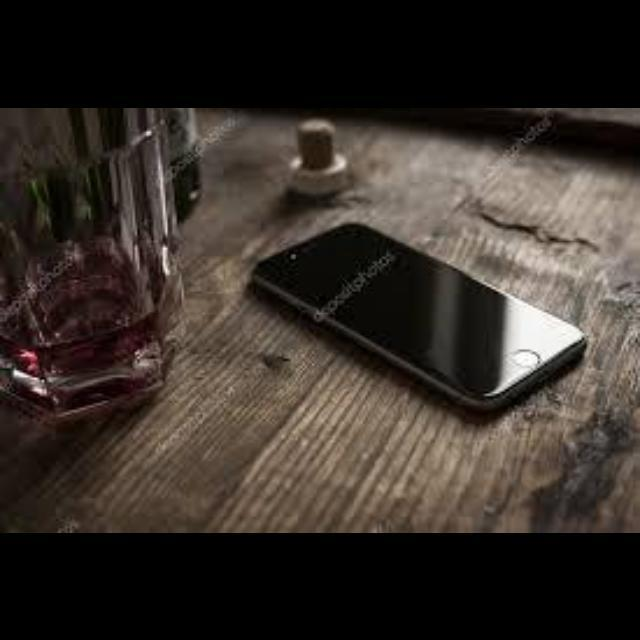phone: (235, 193, 617, 432)
